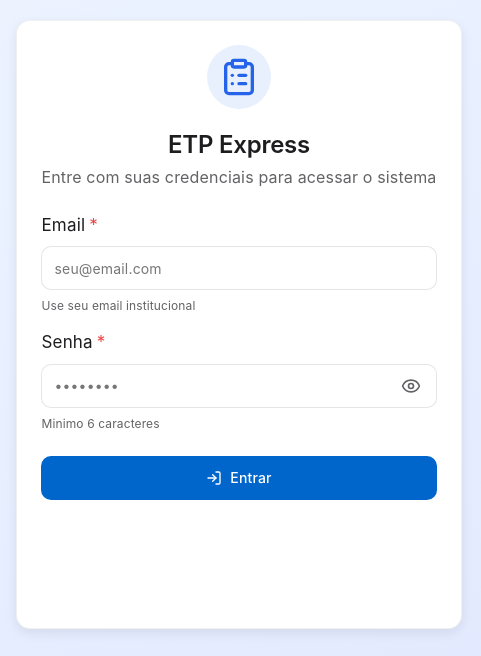
Test case: Login › Required Field Indicators › should hide hint and show error when validation fails
Note: Submit empty form to trigger validation
Click the button "Entrar".
click(239, 478)  # box [42,456,436,500]
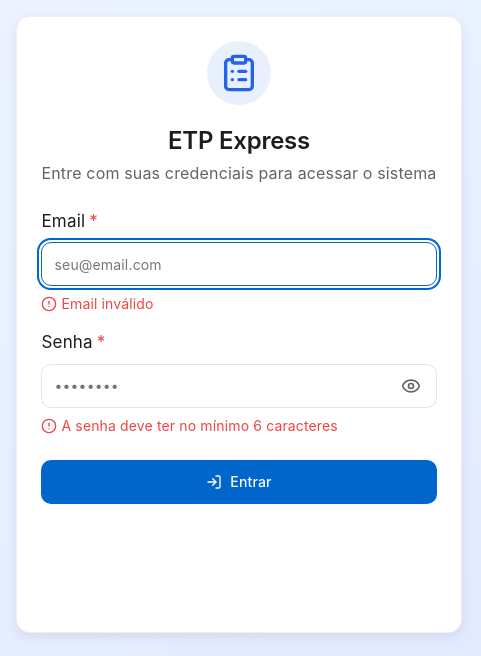
Now the text "Email inválido" is shown, box [62,294,154,314]
